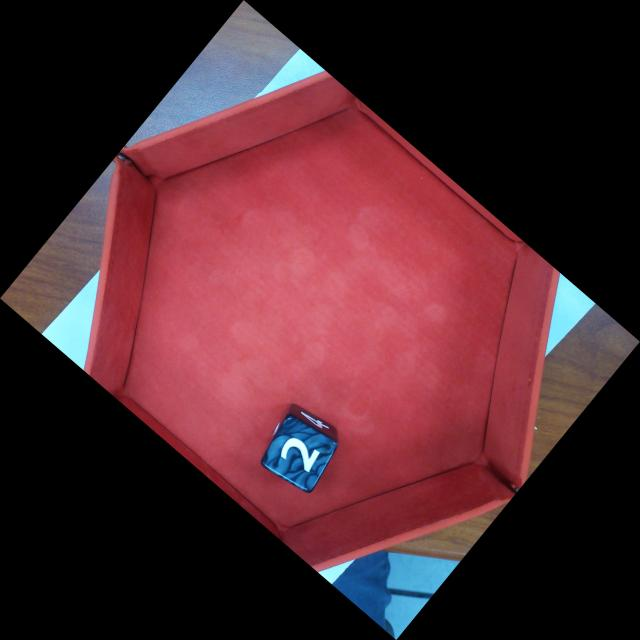dice: (257, 411, 340, 497)
